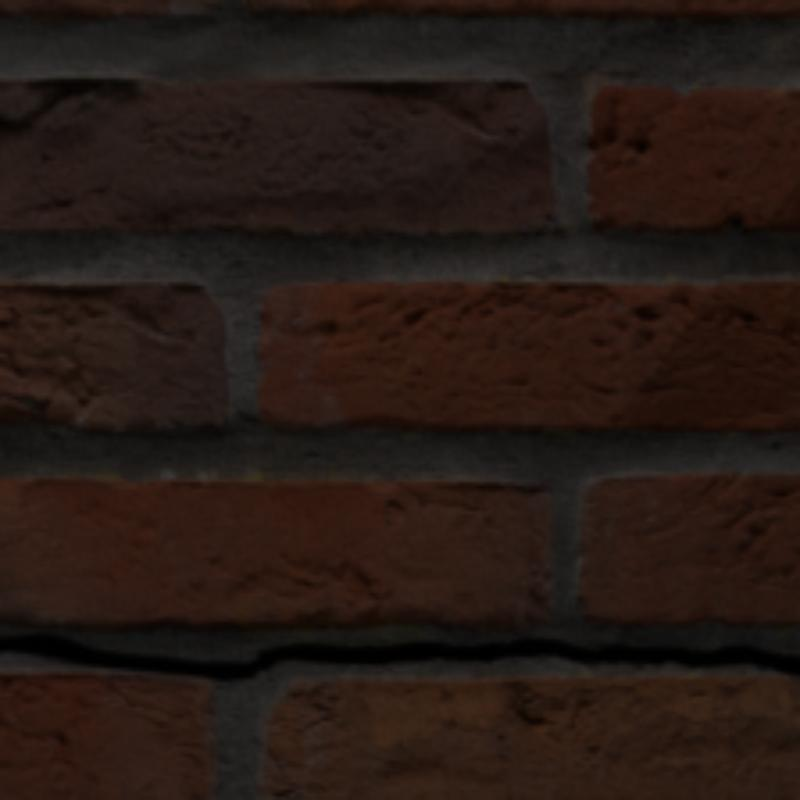pothole: (0, 632, 796, 679)
